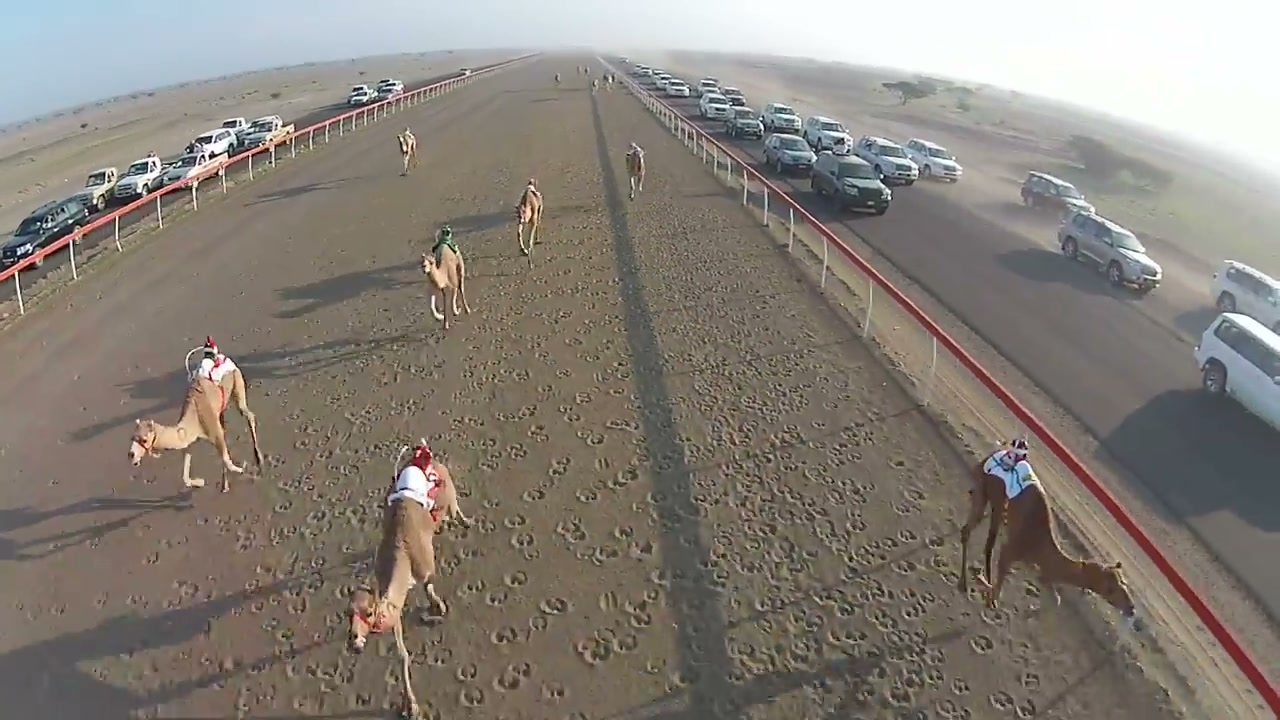animal_footprint: (446, 242, 664, 700)
